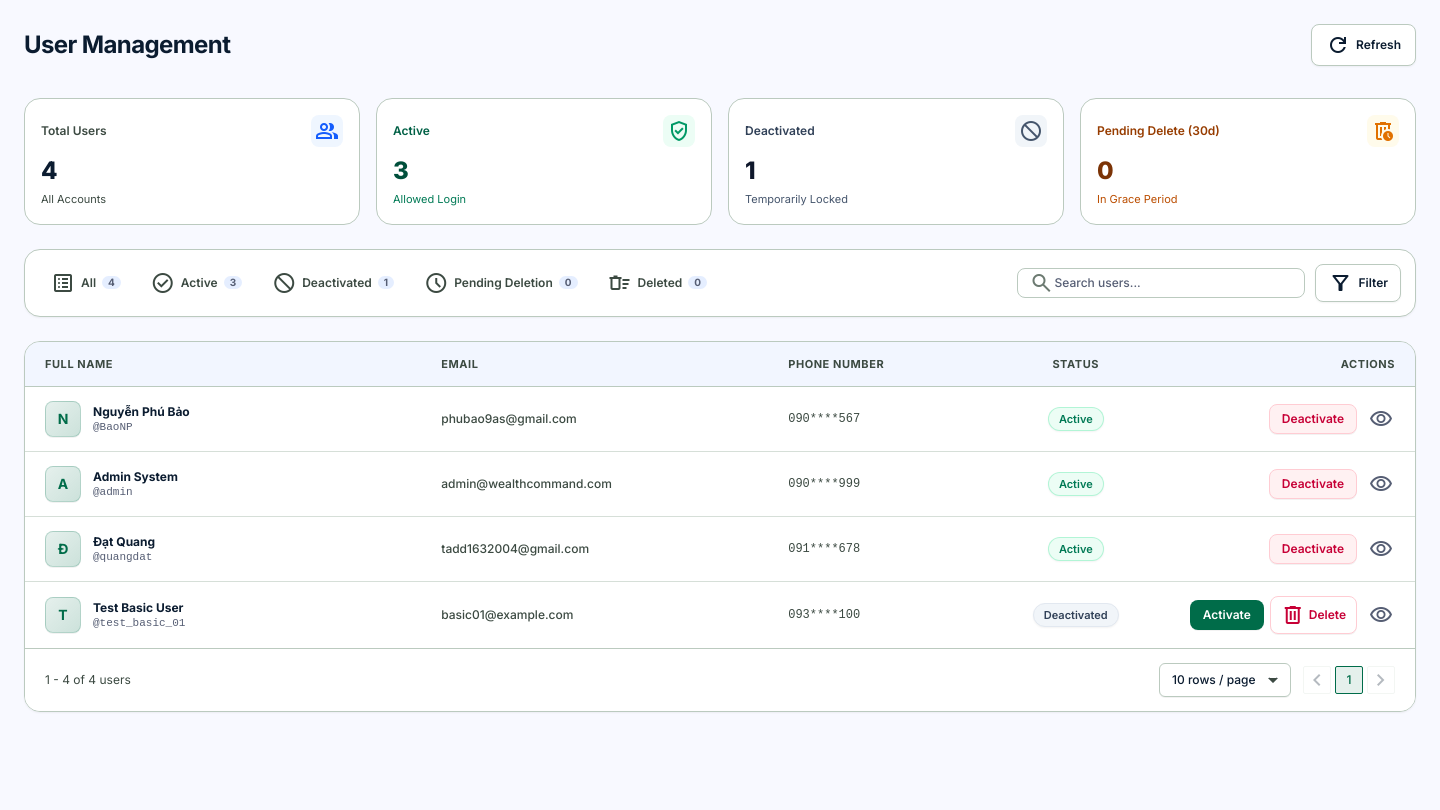
Test case: UserListPage Refinements & 2-Tier Architecture Suite › 🧱 TẦNG 1: UI Rendering & Header / Filter Modal i18n Verification › 1.3. Filter Modal i18n: Hiển thị "Membership" khi chuyển sang Tiếng Anh (en)
# Mở modal Filter
Click the button "Filter" at (1358, 282), box x1=1316 y1=264 x2=1401 y2=302
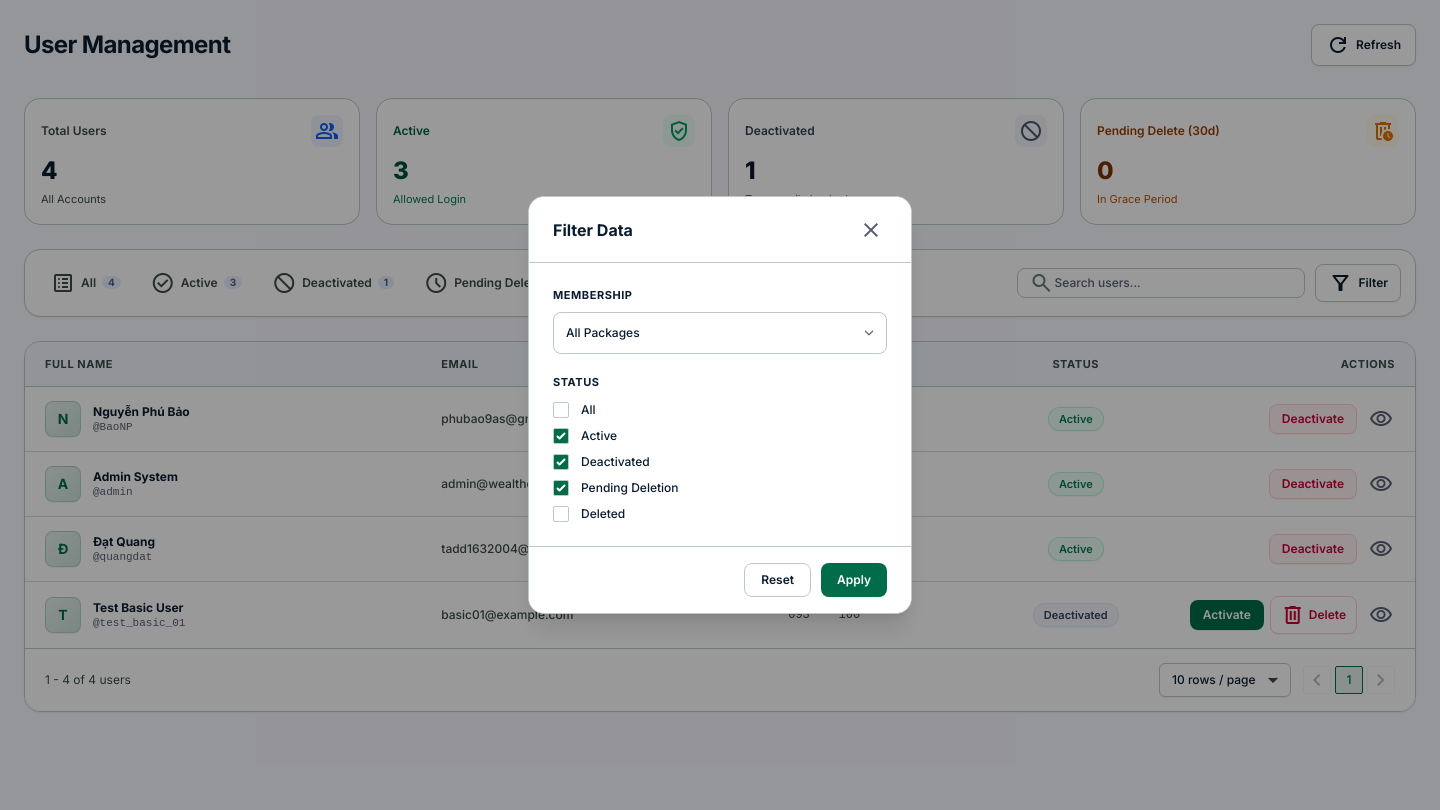
expect the text "Membership" is shown: met, box x1=553 y1=288 x2=632 y2=302
